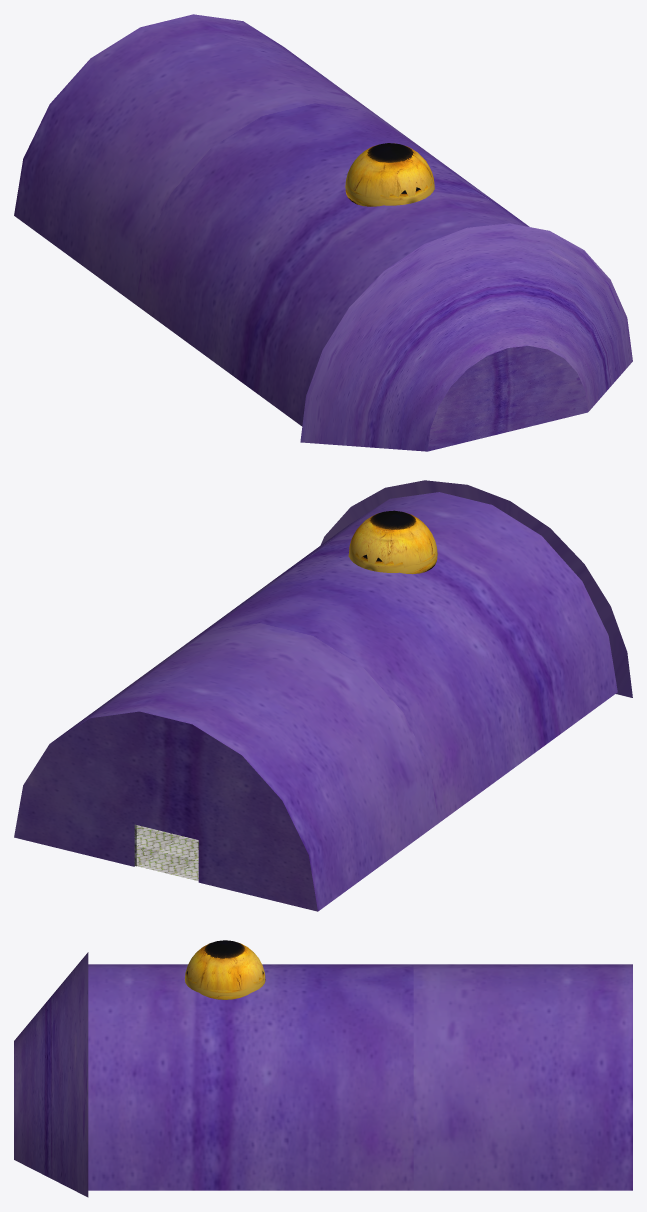
File: CasaC.obj
3 renders of one model, top to bottom at view 1: azimuth 30°, elevation 25°; view 2: azimuth 150°, elevation 25°; view 3: azimuth 270°, elevation 25°, orthographic. The views are drawn at different scales.
Parts seen in each view (by area): view 1: Cylinder001, Cone001, Sphere001; view 2: Cylinder001, Object001, Sphere001, suelo; view 3: Cylinder001, Cone001, Sphere001.
Boxes of the visible parts, x1,y1,x2,y2 form: Cylinder001: (14, 14, 529, 426); Cone001: (300, 223, 632, 451); Sphere001: (345, 143, 434, 206); Cylinder001: (14, 492, 617, 911); Object001: (320, 480, 632, 697); Sphere001: (348, 510, 437, 574); suelo: (136, 825, 198, 880); Cylinder001: (88, 964, 632, 1190); Cone001: (14, 952, 88, 1197); Sphere001: (185, 940, 265, 999).
Size of the model in its own units: 1581 by 906 by 2822.
5 materials, 5 textured.
